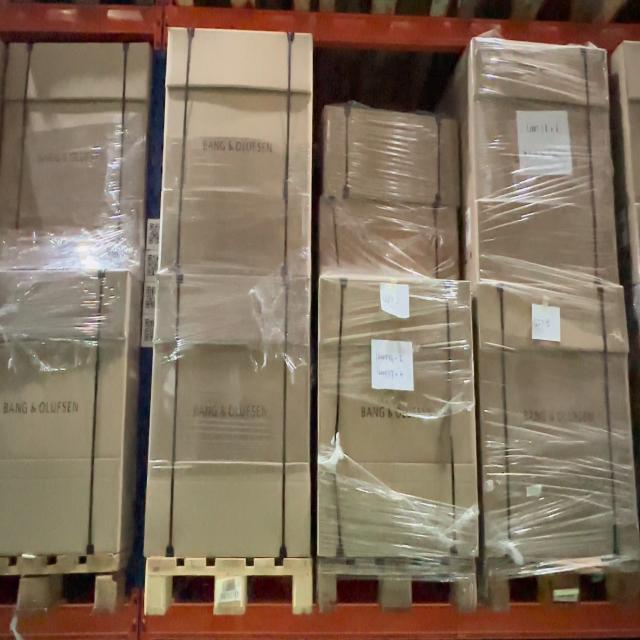box: (475, 282, 639, 548), (322, 289, 478, 553), (153, 284, 309, 548), (161, 28, 313, 281), (474, 42, 616, 277), (1, 42, 145, 242), (320, 111, 464, 281)
